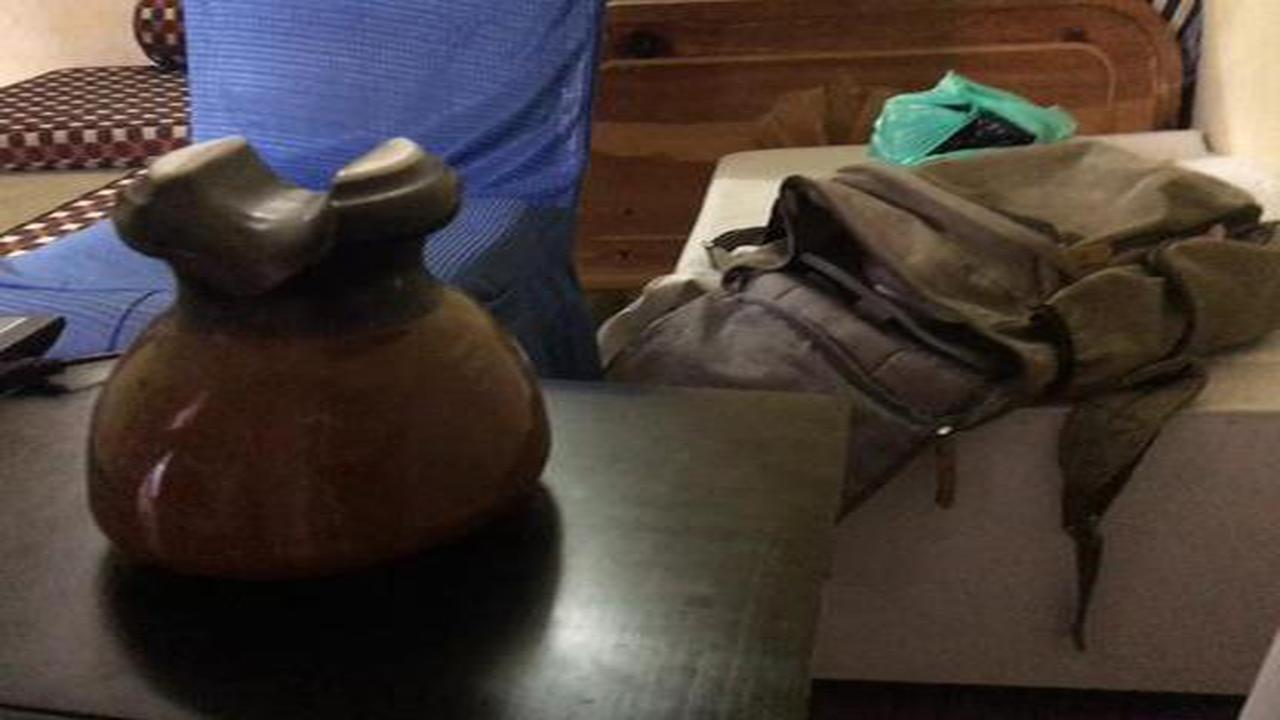insulator_pin: (75, 120, 570, 605)
